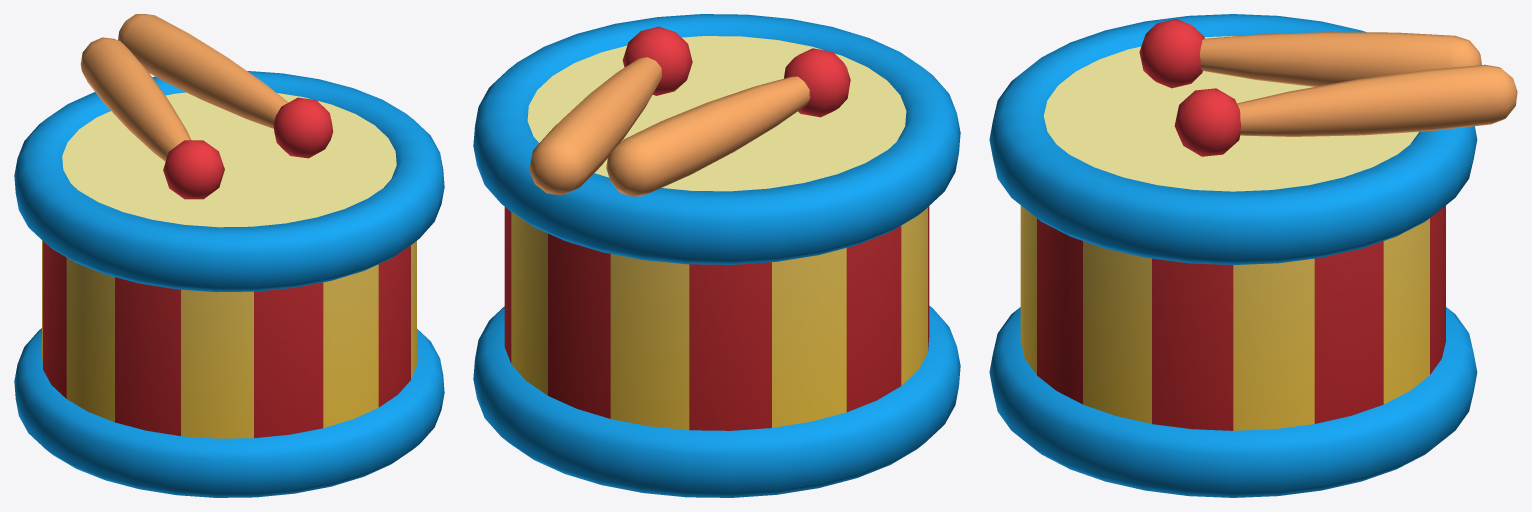
File: Toy_05.glb
3 views of the same model, side by side, from view 1: azimuth 30°, elevation 25°; view 2: azimuth 150°, elevation 25°; view 3: azimuth 270°, elevation 25° (orthographic). The views are drawn at different scales.
Parts seen in each view (by area): view 1: Toy_05; view 2: Toy_05; view 3: Toy_05.
Boxes of the visible parts, <box> form: Toy_05: <box>14,14,444,497</box>; Toy_05: <box>473,14,960,497</box>; Toy_05: <box>989,14,1517,497</box>.
Bounding box in the file's own units: 0.2035 × 0.1617 × 0.2203.
1 material, 1 textured.
